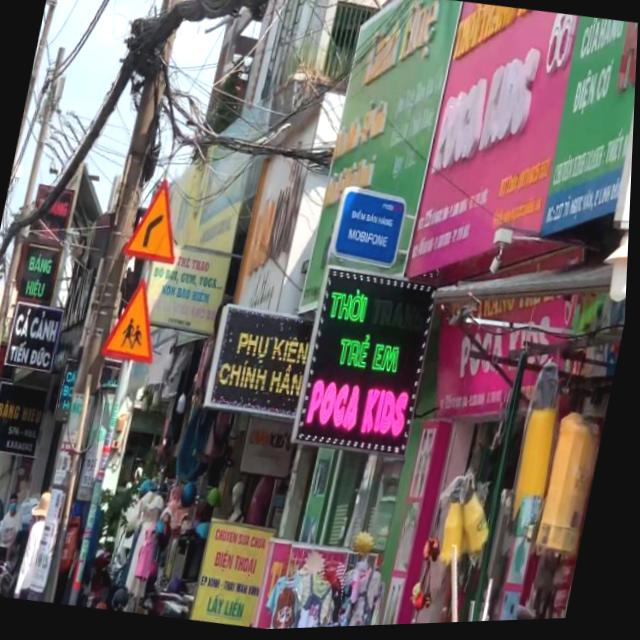Tre em: (102, 271, 173, 370)
cho ngoat nguy hiem vong ben phai: (122, 175, 193, 269)
